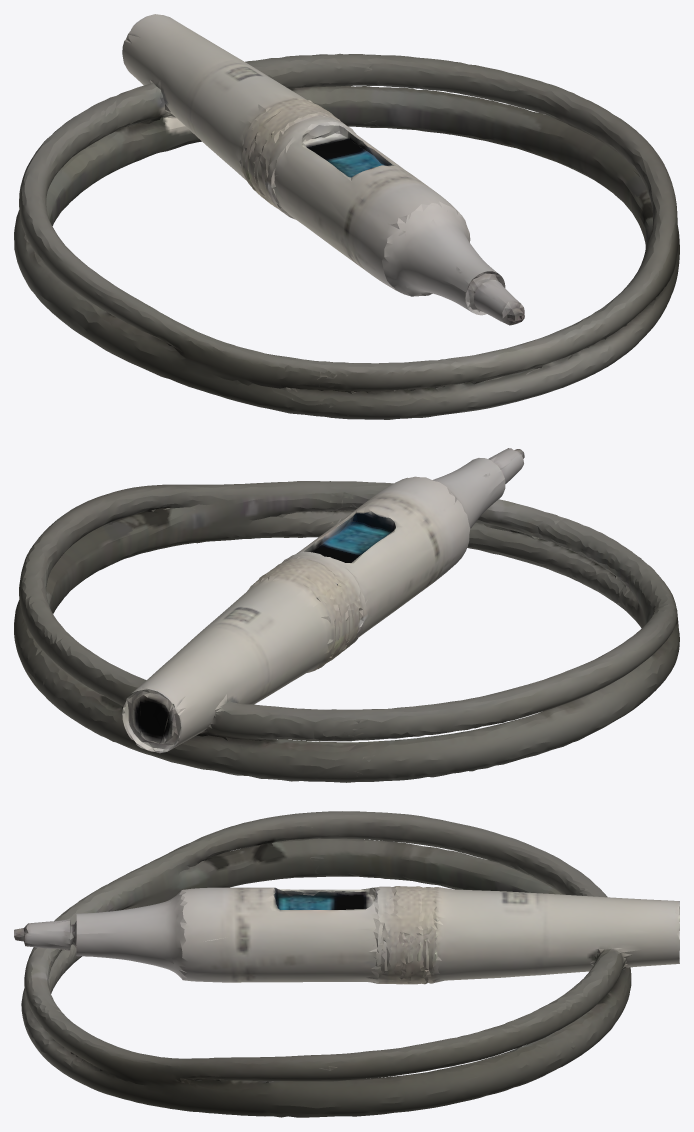
The model's file is ultrasound_probe.glb.
3 views of the same model, one above another, from view 1: azimuth 30°, elevation 25°; view 2: azimuth 150°, elevation 25°; view 3: azimuth 270°, elevation 25° (orthographic). The views are drawn at different scales.
Parts seen in each view (by area): view 1: model; view 2: model; view 3: model.
Boxes of the visible parts, x1,y1,x2,y2 form: model: [14, 14, 679, 419]; model: [14, 448, 679, 782]; model: [14, 811, 679, 1117].
Bounding box in the file's own units: 1.72 × 0.4009 × 1.9.
Materials: 1 (1 with a texture image).
